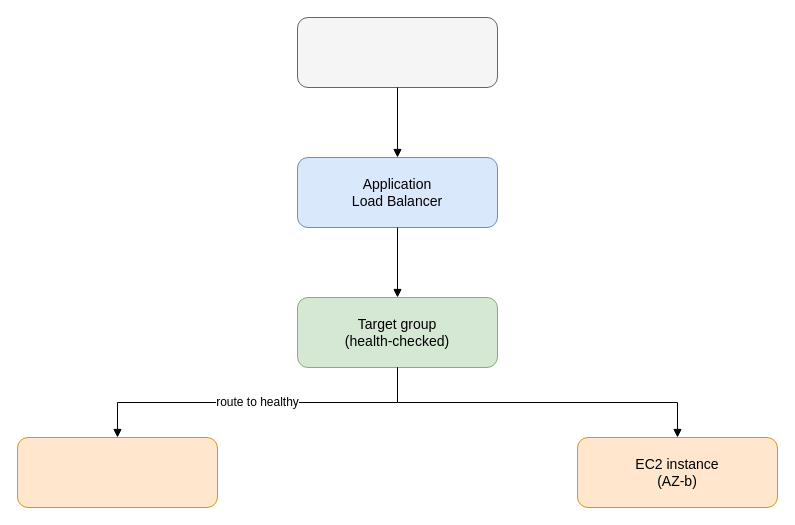
Image size: 795x525. Some labels were removed from this diagram. The shapes that lost their labels are listed below. From the top down, each one's centre as x and y in pixels, then its label:
At (397,52): "Users".
At (117,472): "EC2 instance (AZ-a)".
